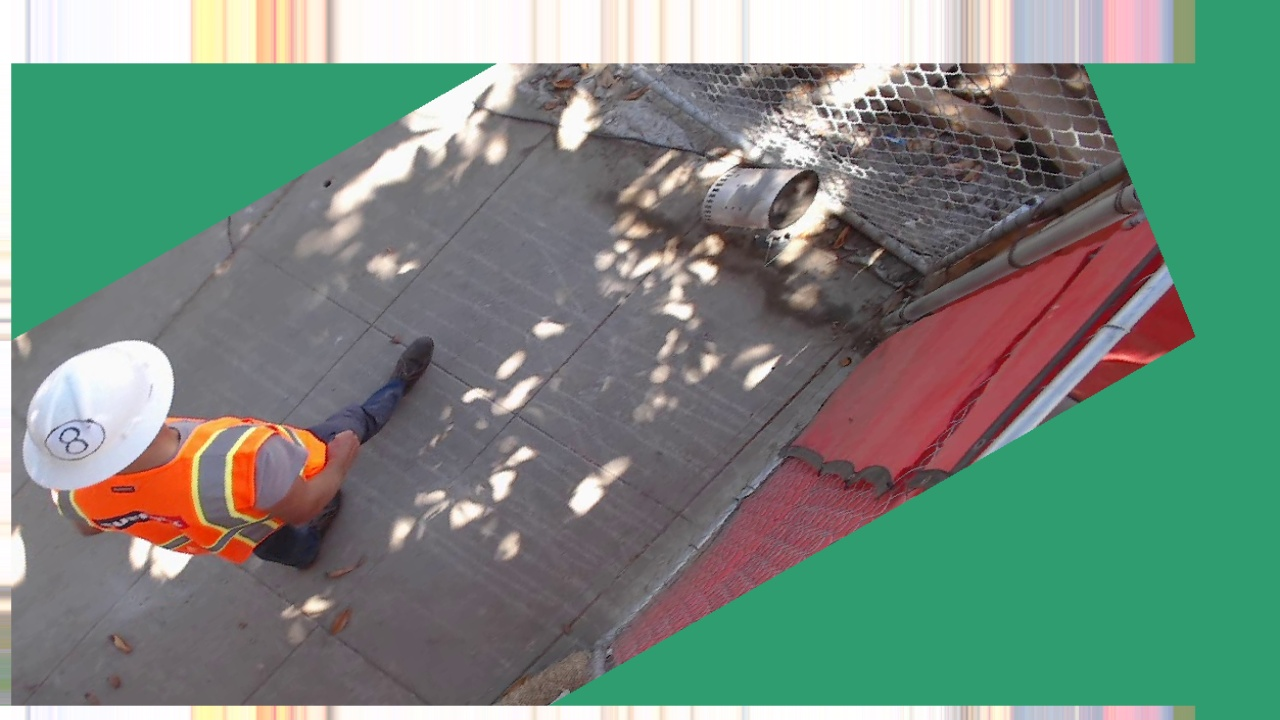blue: (640, 186, 695, 242)
hardhat: (535, 152, 711, 284)
person: (430, 52, 730, 284)
safetyvest: (469, 78, 688, 239)
